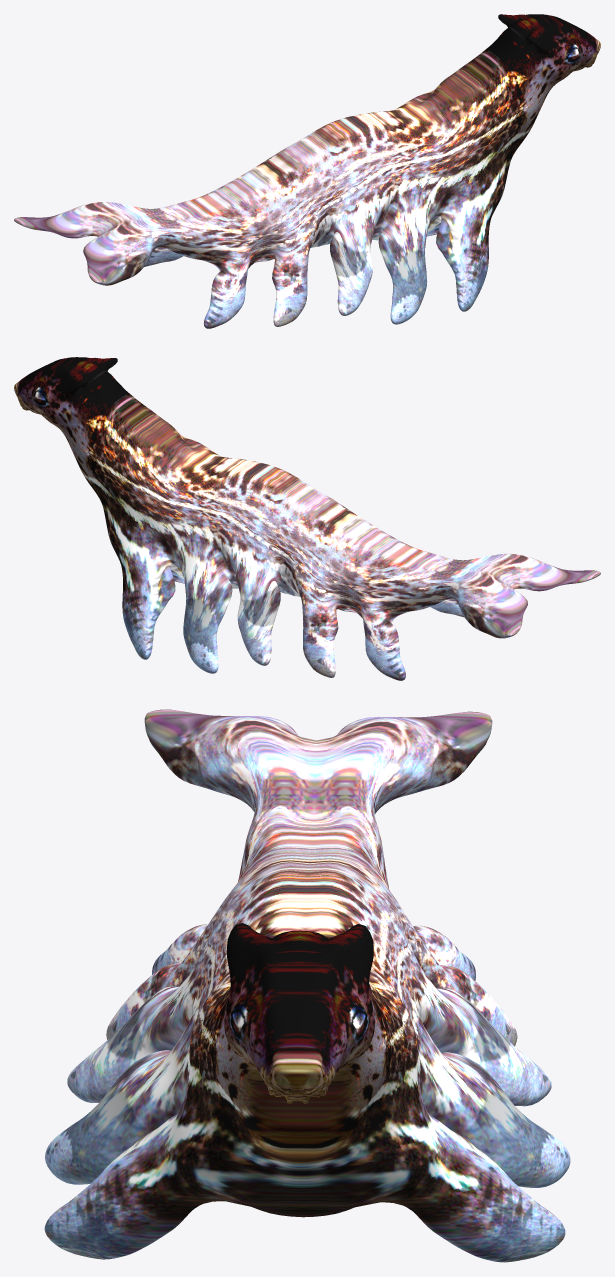
The model's file is sealipede.glb.
The picture shows the model from 3 angles, top to bottom: view 1: azimuth 30°, elevation 25°; view 2: azimuth 150°, elevation 25°; view 3: azimuth 270°, elevation 25°; orthographic projection. The views are drawn at different scales.
Parts seen in each view (by area): view 1: sealipede; view 2: sealipede; view 3: sealipede.
Part boxes in pixels (box(x1,y1,x2,y2)): sealipede: box(14, 14, 600, 328); sealipede: box(14, 357, 600, 680); sealipede: box(44, 709, 570, 1262).
Bounding box in the file's own units: 10.63 × 4.06 × 4.48.
1 material, 1 textured.
